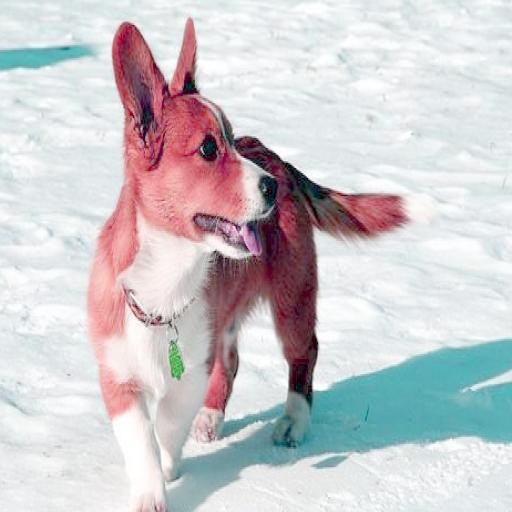dog_face: (106, 18, 268, 256)
